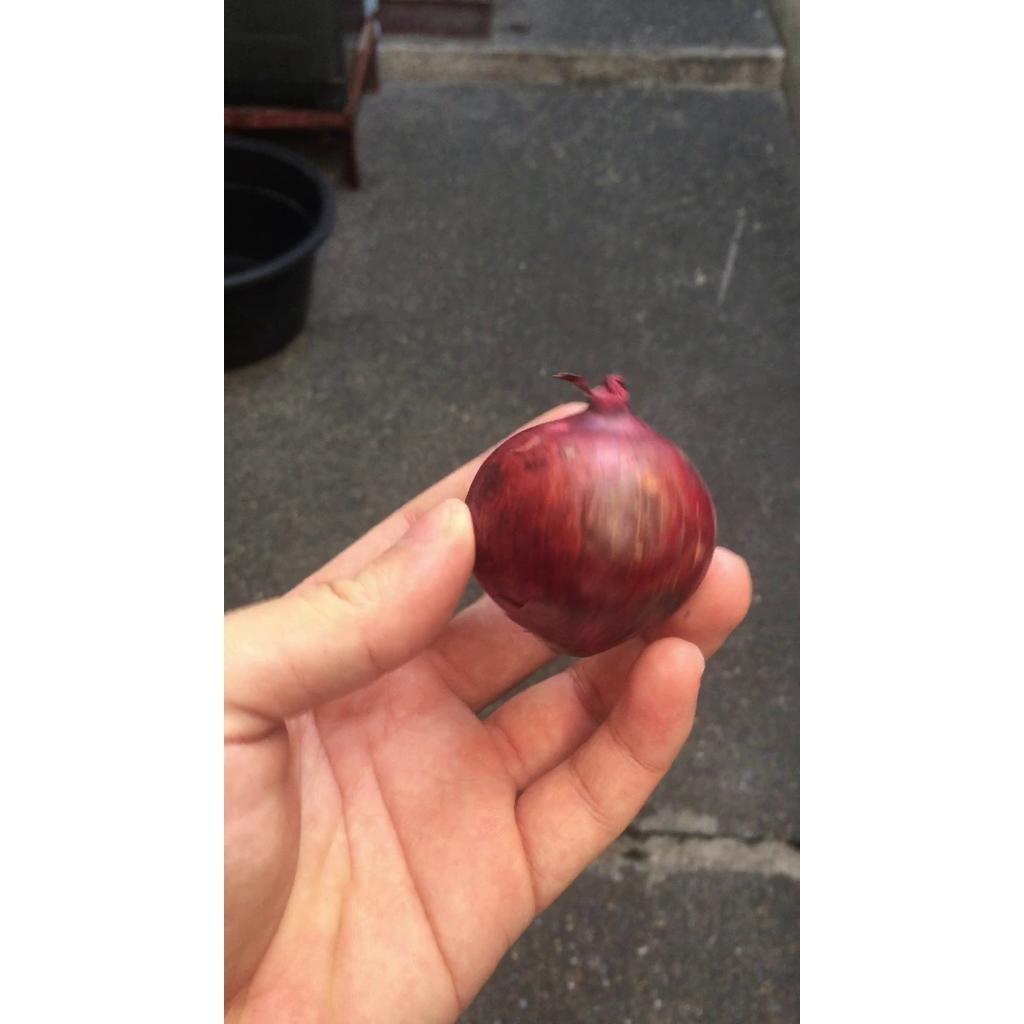Onion: (466, 373, 716, 657)
